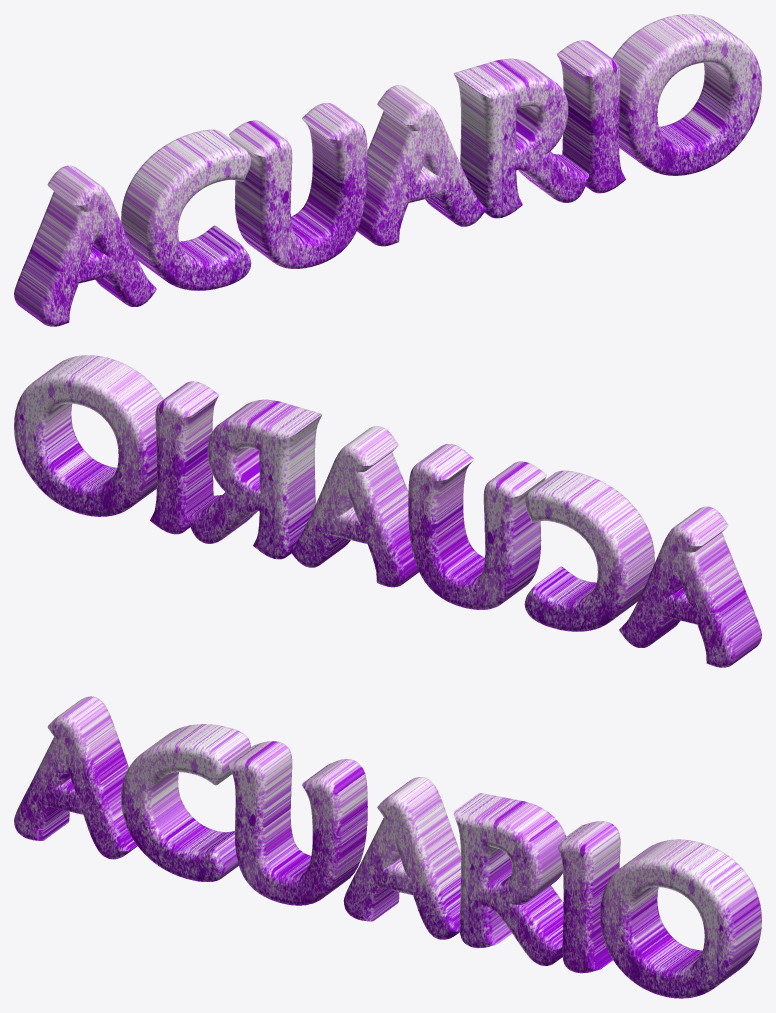
Rendered from letrero.obj.
3 views of the same model, one above another, from view 1: azimuth 30°, elevation 25°; view 2: azimuth 150°, elevation 25°; view 3: azimuth 330°, elevation 25° (orthographic).
Visible parts, largest first — view 1: Text001; view 2: Text001; view 3: Text001.
Part boxes in pixels (bbox=[...]): Text001: bbox=[14, 14, 761, 326]; Text001: bbox=[14, 355, 761, 667]; Text001: bbox=[14, 696, 761, 998].
Size of the model in its own units: 379 by 68.9 by 30.
